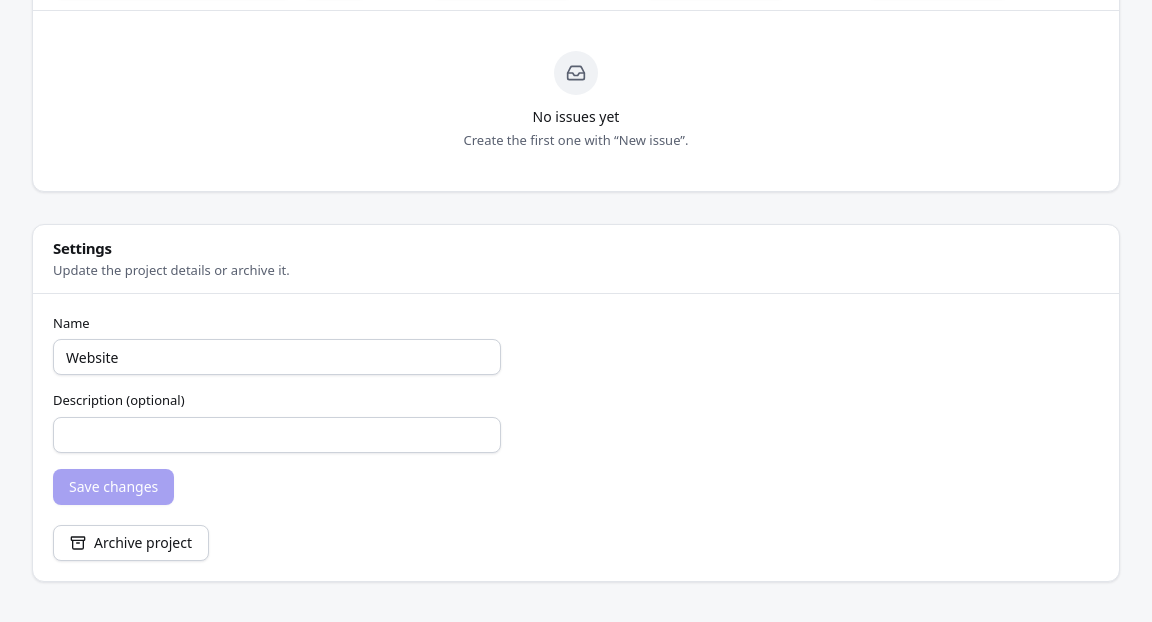
ProjectOverview › lets admins archive and shows the archived state
The image size is (1152, 622).
(page scrolled)
Click the button "Archive project": (131, 543) x1=53 y1=525 x2=209 y2=561
(page scrolled)
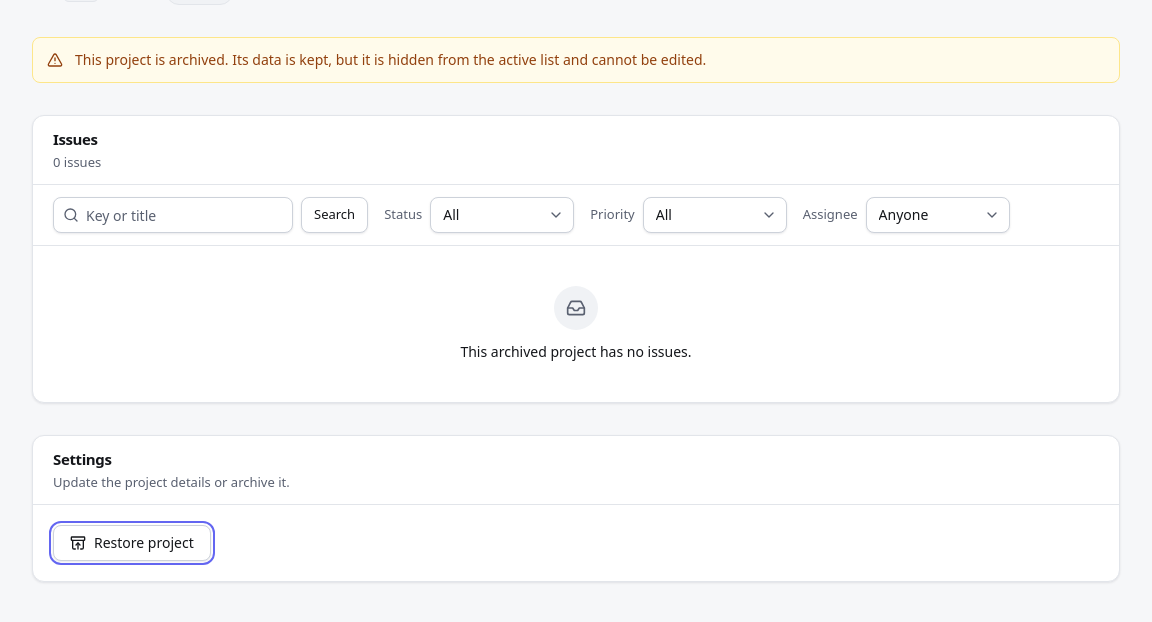
Expected: the button "Restore project" is shown, x1=53 y1=525 x2=211 y2=561
Expected: the text "This project is archived" is shown, x1=75 y1=50 x2=706 y2=69
